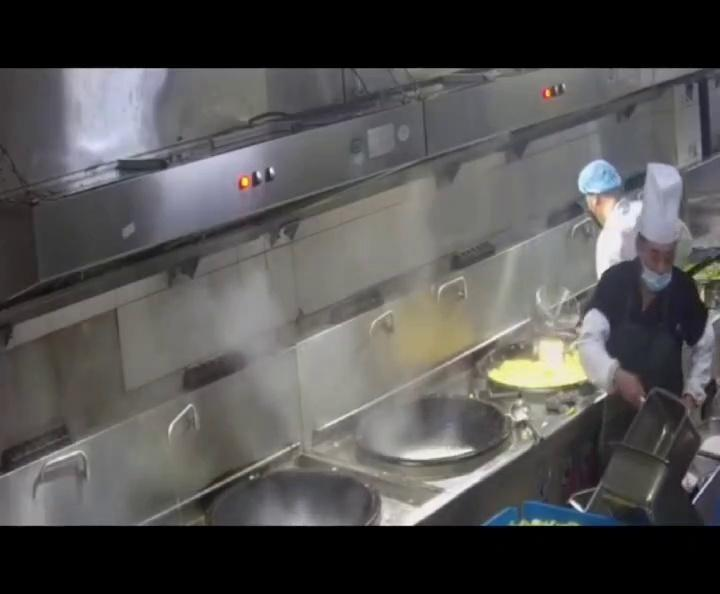mask: (646, 246, 676, 292)
